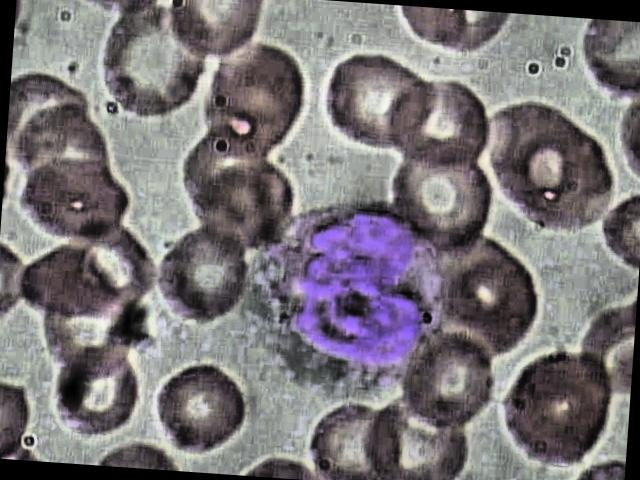RBC: (494, 339, 620, 474), (381, 136, 508, 266), (90, 1, 216, 131), (202, 38, 318, 158), (320, 42, 440, 155), (379, 71, 504, 170), (146, 356, 257, 460), (148, 228, 259, 332), (41, 344, 152, 446), (10, 158, 134, 246), (395, 328, 497, 434), (305, 398, 400, 480), (163, 0, 269, 63)
WBC: (242, 180, 459, 404)
